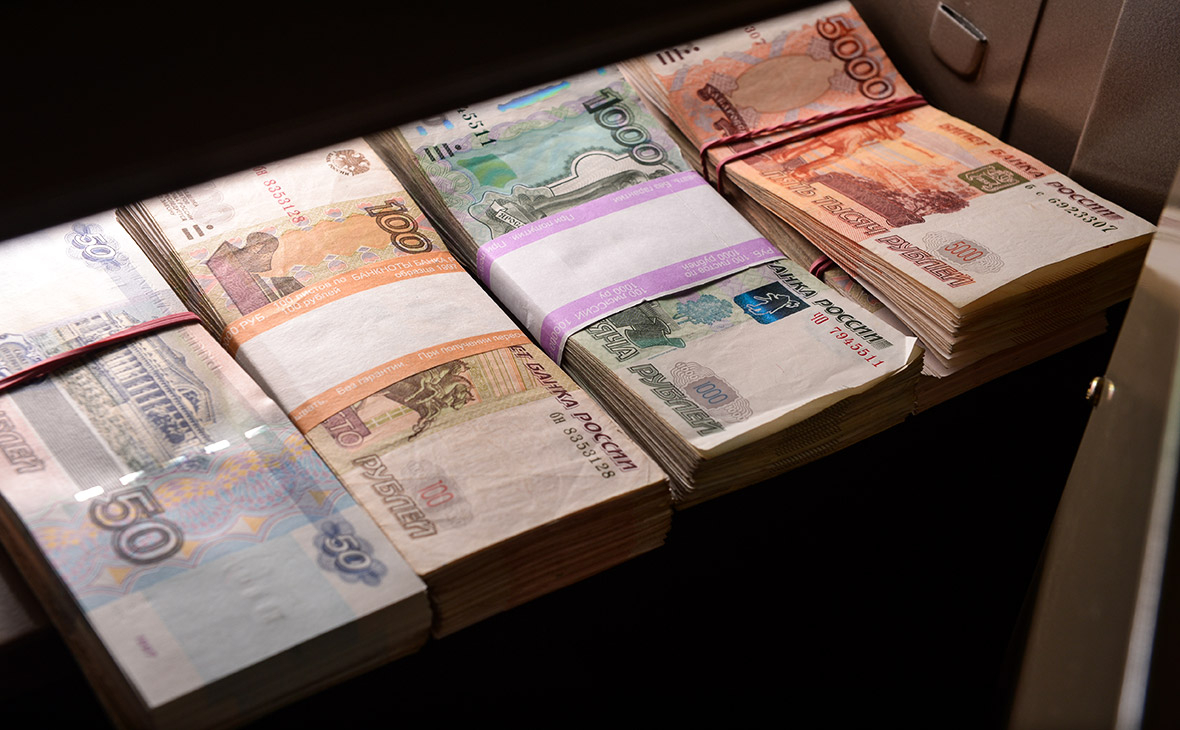cash: (121, 46, 668, 583), (1, 113, 440, 730), (441, 3, 922, 443), (642, 14, 1165, 324)
